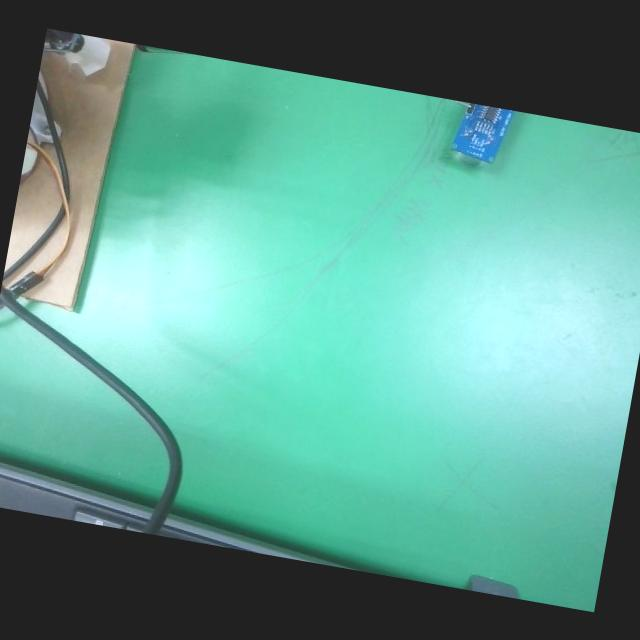ultrasonic_hc-sr04: (446, 100, 515, 170)
